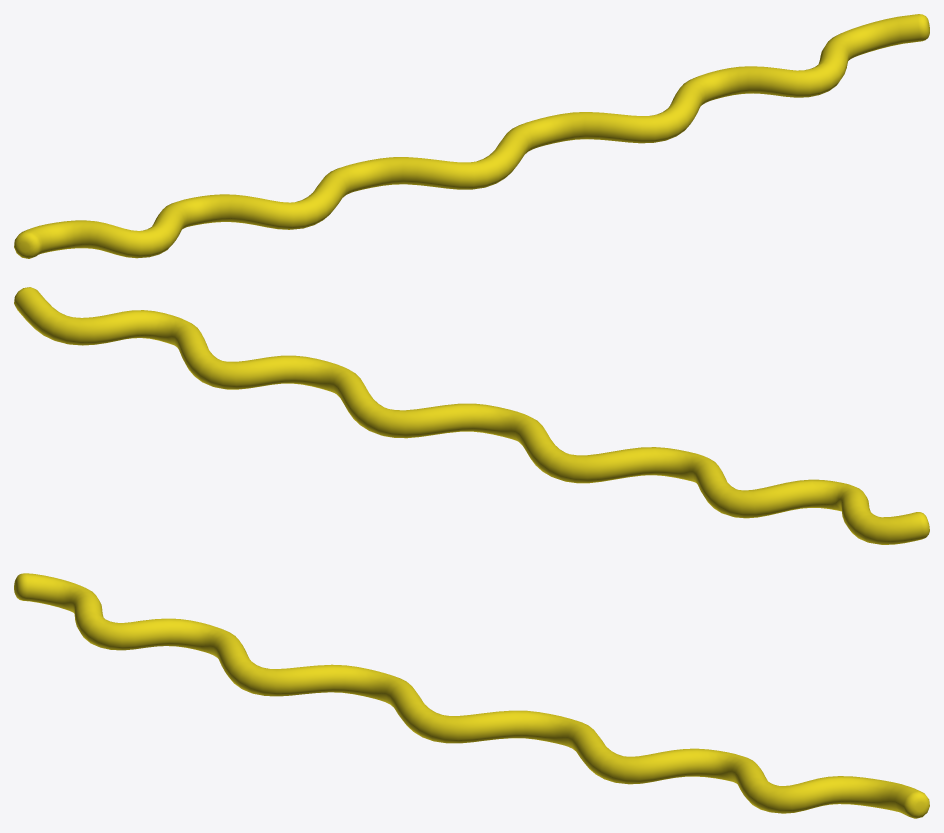
File: mustard.dae
The picture shows the model from 3 angles, top to bottom: view 1: azimuth 30°, elevation 25°; view 2: azimuth 150°, elevation 25°; view 3: azimuth 330°, elevation 25°; orthographic projection.
Parts seen in each view (by area): view 1: Mustard; view 2: Mustard; view 3: Mustard.
Part boxes in pixels (x1,y1,x2,y2): Mustard: (14,14,929,258); Mustard: (14,287,929,544); Mustard: (14,573,929,818).
Bounding box in the file's own units: 5.23 × 0.4394 × 0.2654.
